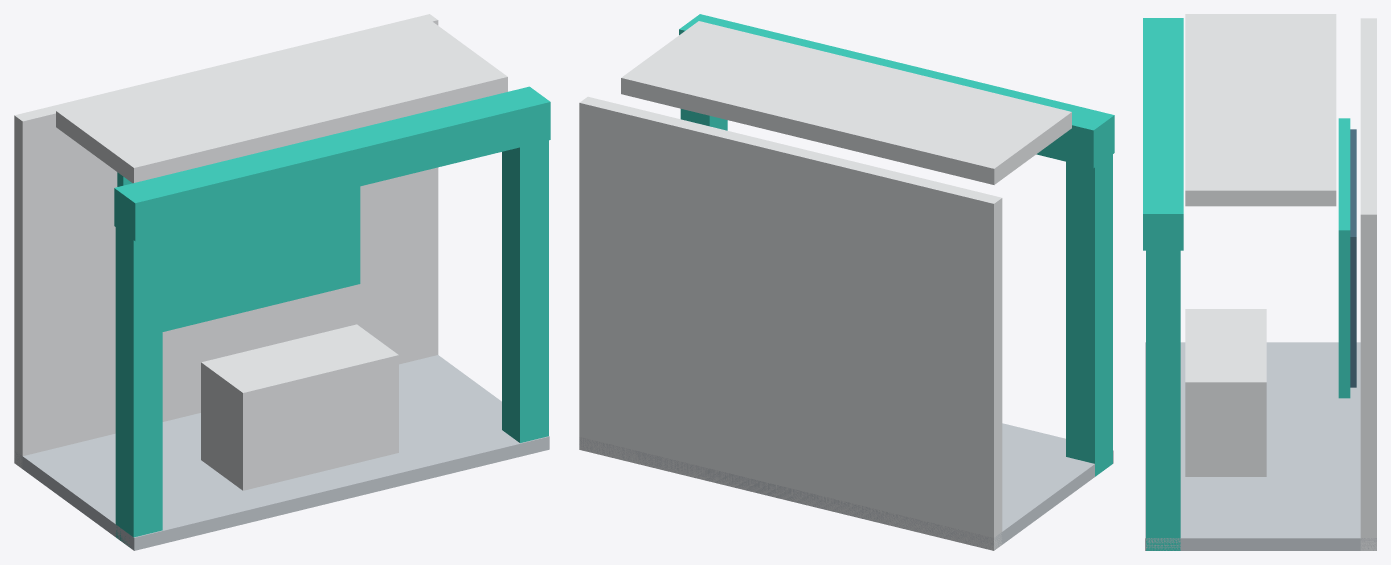
3 renders of one model, left to right at view 1: azimuth 30°, elevation 25°; view 2: azimuth 150°, elevation 25°; view 3: azimuth 270°, elevation 25°, orthographic. The views are drawn at different scales.
Parts seen in each view (by area): view 1: Exhibition Booth Concept; view 2: Exhibition Booth Concept; view 3: Exhibition Booth Concept.
Part boxes in pixels (x1,y1,x2,y2): Exhibition Booth Concept: [14, 14, 550, 550]; Exhibition Booth Concept: [579, 14, 1114, 550]; Exhibition Booth Concept: [1143, 14, 1376, 550].
Bounding box in the file's own units: 4 × 3.34 × 2.01.
